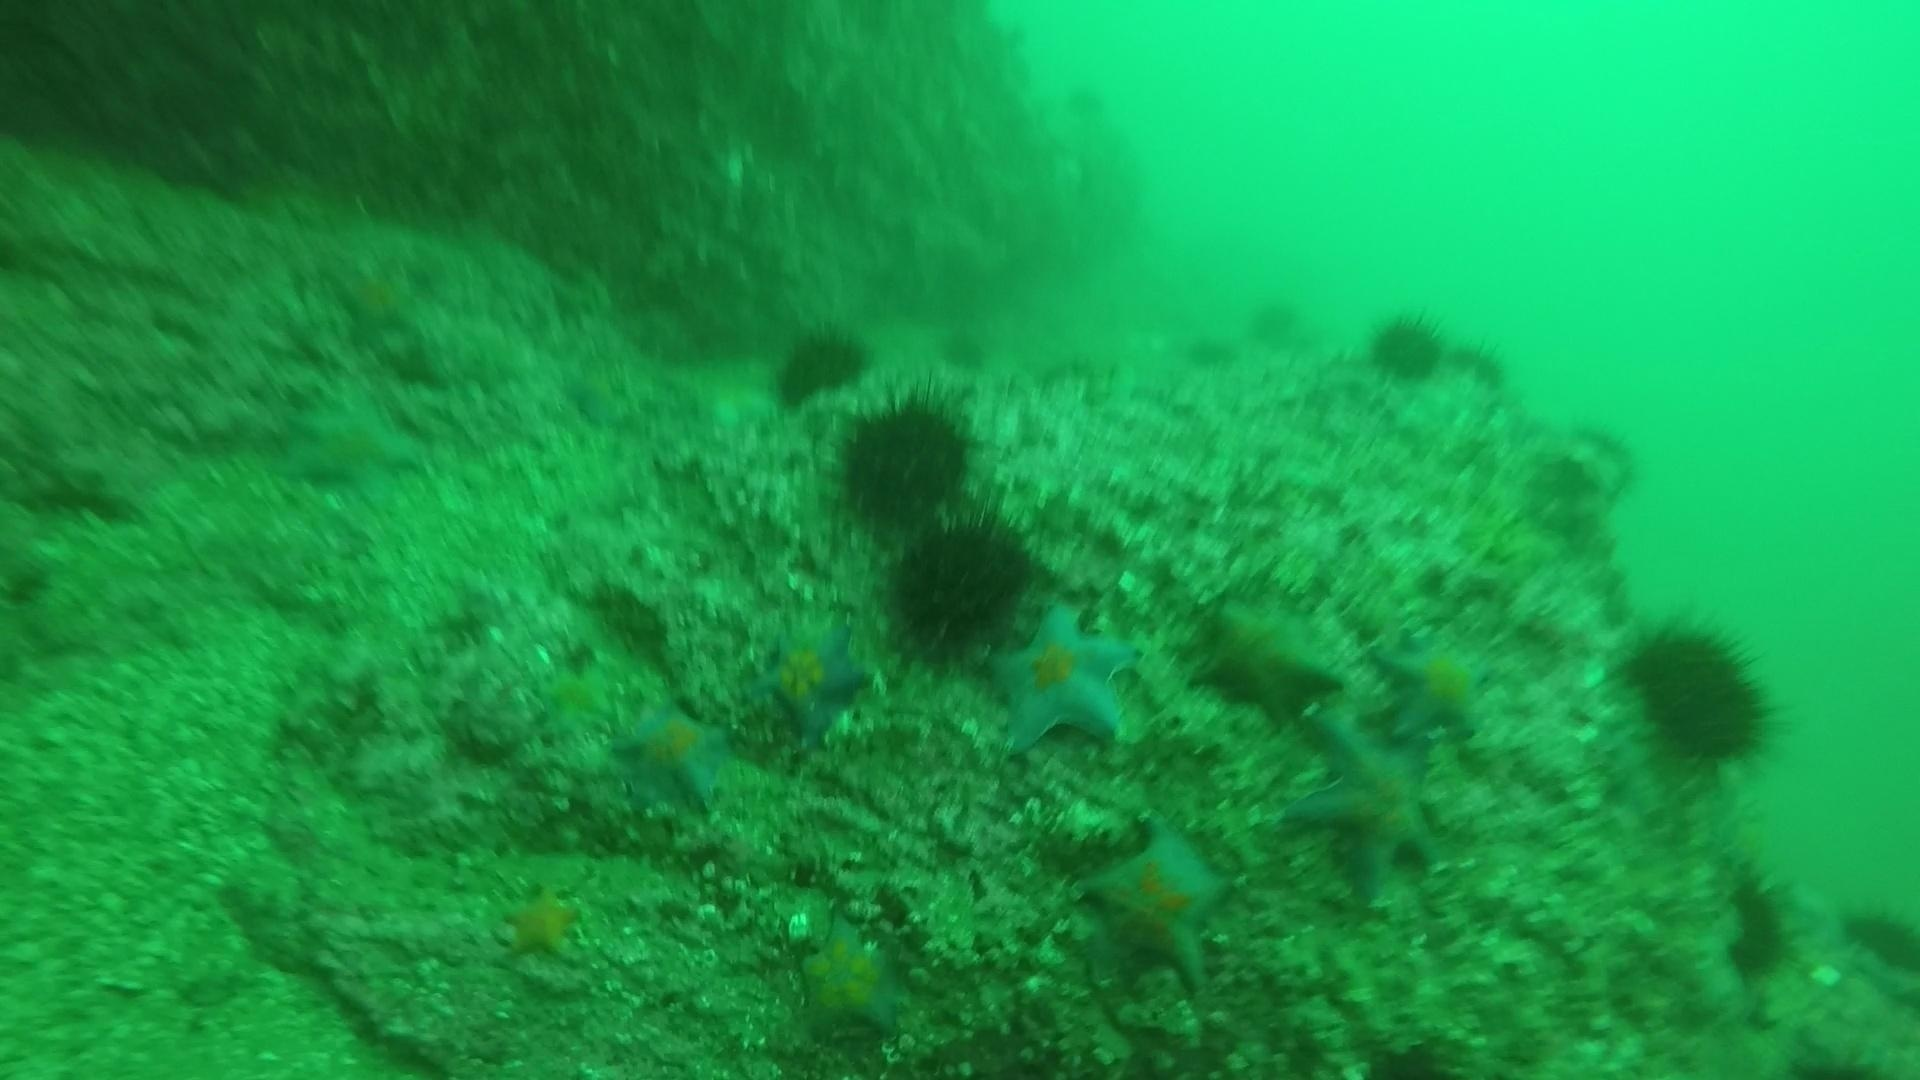echinus: (1614, 611, 1784, 775), (881, 502, 1040, 659), (831, 382, 980, 529), (1712, 858, 1799, 986), (767, 320, 873, 410), (1364, 307, 1455, 388), (1840, 899, 1919, 978), (1245, 291, 1305, 349), (1455, 336, 1513, 396), (936, 323, 992, 375)
starfish: (1276, 707, 1447, 907), (1071, 812, 1241, 996), (981, 597, 1145, 756), (1187, 583, 1345, 723), (276, 382, 427, 502), (752, 609, 877, 746), (603, 692, 742, 814), (789, 911, 915, 1042), (1371, 624, 1501, 742), (328, 255, 429, 344), (530, 651, 622, 741), (491, 881, 589, 964), (558, 355, 638, 433)
